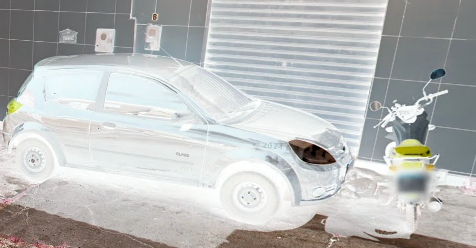car: (2, 31, 354, 225)
